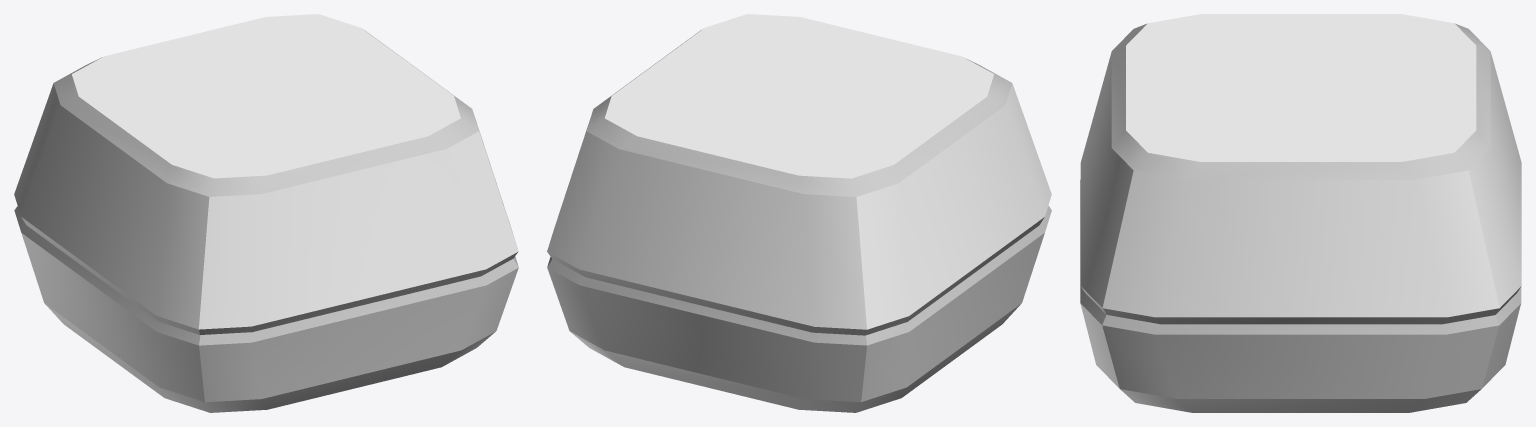
The model's file is Food Save.fbx.
3 renders of one model, left to right at view 1: azimuth 30°, elevation 25°; view 2: azimuth 150°, elevation 25°; view 3: azimuth 270°, elevation 25°, orthographic. The views are drawn at different scales.
Visible parts, largest first — view 1: Food Save Slide, Food Save; view 2: Food Save Slide, Food Save; view 3: Food Save Slide, Food Save.
Part boxes in pixels (x1,y1,x2,y2): Food Save Slide: [14, 14, 518, 334]; Food Save: [14, 206, 518, 412]; Food Save Slide: [547, 14, 1051, 335]; Food Save: [547, 206, 1051, 412]; Food Save Slide: [1080, 14, 1521, 324]; Food Save: [1080, 180, 1521, 412].
Size of the model in its own units: 0.3256 by 0.1996 by 0.3259.
